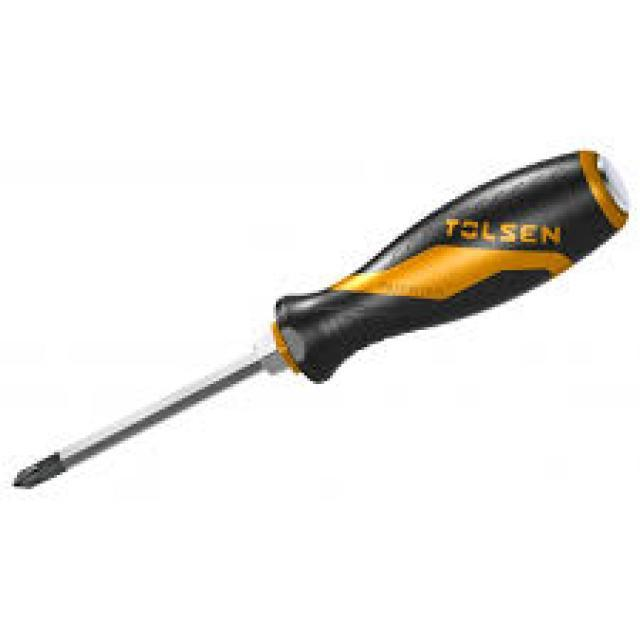screwdriver: (10, 148, 633, 495)
